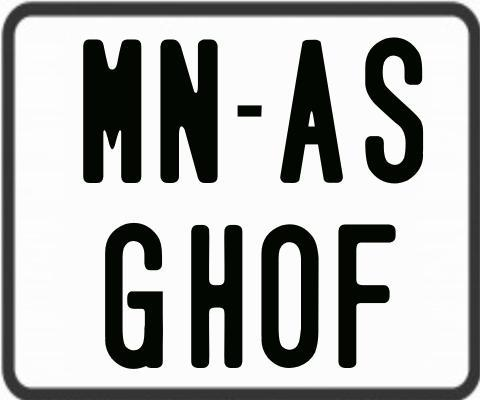0: (261, 222, 325, 368)
A: (280, 38, 345, 182)
F: (337, 221, 401, 370)
G: (105, 221, 166, 367)
H: (188, 223, 243, 367)
M: (80, 39, 138, 188)
N: (158, 39, 219, 186)
S: (363, 37, 424, 186)
